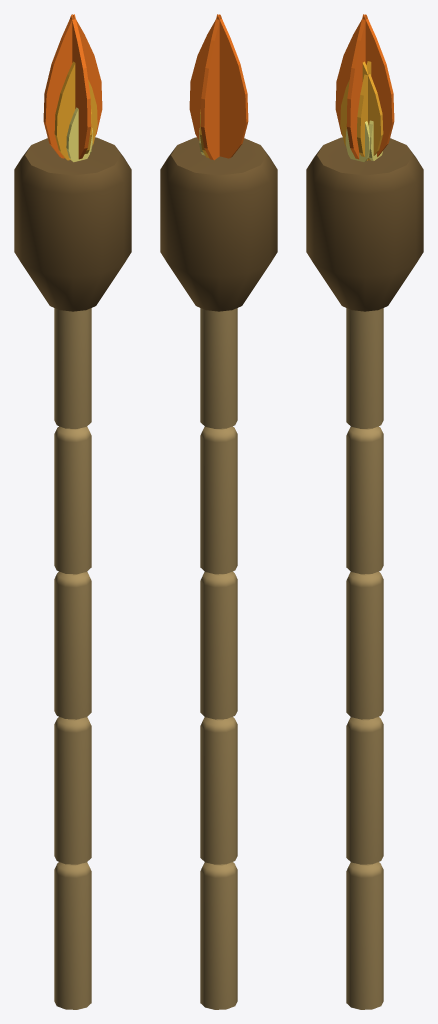
File: furn_dp_torch.glb
3 renders of one model, left to right at view 1: azimuth 30°, elevation 25°; view 2: azimuth 150°, elevation 25°; view 3: azimuth 330°, elevation 25°, orthographic.
Parts seen in each view (by area): view 1: furn_dp_torch_main, furn_dp_torch_glow; view 2: furn_dp_torch_main, furn_dp_torch_glow; view 3: furn_dp_torch_main, furn_dp_torch_glow.
Part boxes in pixels (bbox=[...]): furn_dp_torch_main: bbox=[14, 137, 131, 1009]; furn_dp_torch_glow: bbox=[43, 14, 102, 162]; furn_dp_torch_main: bbox=[160, 137, 277, 1009]; furn_dp_torch_glow: bbox=[189, 14, 248, 160]; furn_dp_torch_main: bbox=[306, 137, 423, 1009]; furn_dp_torch_glow: bbox=[335, 14, 394, 162].
Bounding box in the file's own units: 0.22 × 2.04 × 0.22.
